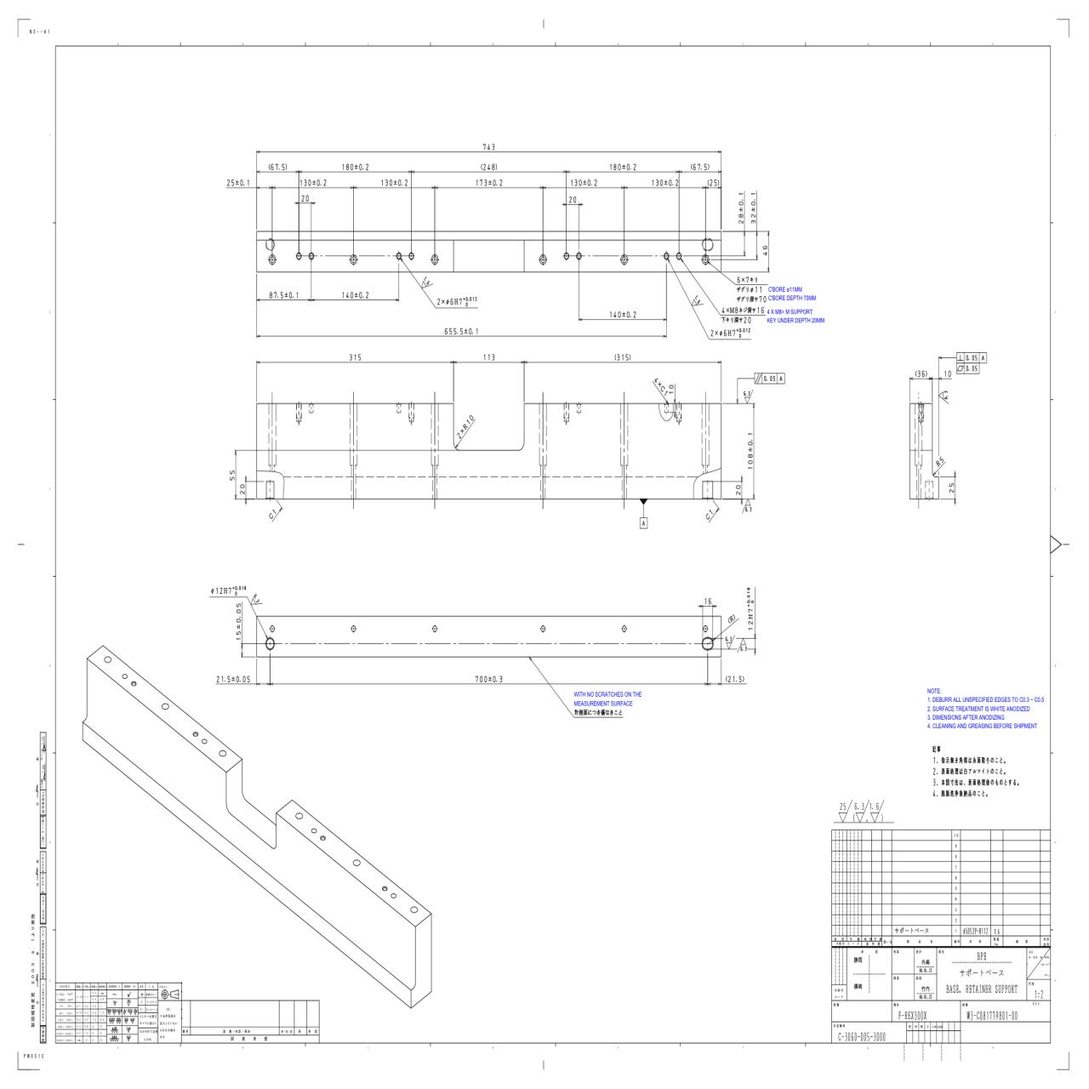basic_dimension: (269, 291, 299, 300), (341, 291, 371, 299), (217, 676, 250, 683), (476, 179, 503, 187), (236, 604, 242, 640), (382, 179, 408, 187), (652, 179, 678, 187), (444, 328, 478, 334), (227, 178, 249, 187), (738, 192, 744, 225), (475, 676, 503, 683), (342, 163, 369, 170), (571, 180, 598, 187), (610, 164, 637, 171), (610, 311, 637, 318), (748, 432, 753, 469), (300, 180, 327, 186), (751, 193, 756, 224), (483, 143, 495, 151), (617, 353, 629, 361), (693, 164, 708, 170), (271, 164, 285, 170), (483, 164, 495, 171), (728, 676, 742, 682), (349, 354, 361, 361), (483, 354, 495, 361), (948, 482, 954, 493), (763, 245, 768, 257), (301, 195, 309, 202), (710, 179, 717, 187), (918, 370, 925, 378), (240, 484, 245, 495), (230, 470, 235, 481), (736, 485, 741, 496), (569, 196, 576, 203), (944, 370, 951, 377), (669, 385, 674, 394), (705, 598, 712, 604)
datum_symbol: (639, 498, 648, 529)
dimension_chamfer_symbol: (704, 508, 714, 522), (659, 384, 668, 396), (268, 509, 276, 521)
dimension_diameter_symbol: (719, 327, 751, 339), (211, 586, 247, 596), (446, 296, 478, 307), (750, 287, 763, 294)
dimension_metric_symbol: (729, 306, 735, 314)
dimension_radius_symbol: (462, 414, 474, 431), (935, 456, 944, 468), (728, 614, 735, 623)
gdt_frame_symbol: (754, 372, 785, 385), (955, 351, 988, 363), (956, 363, 981, 375)
gdt_parallelism_symbol: (755, 374, 762, 384)
gdt_perpendicularity_symbol: (957, 354, 964, 362)
surface_finish_symbol: (937, 389, 950, 406), (690, 294, 705, 307), (420, 279, 435, 290), (725, 634, 735, 650), (744, 389, 754, 405), (251, 592, 263, 605), (737, 638, 747, 653), (742, 498, 751, 514)
